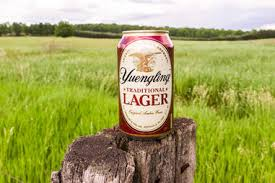can: (117, 31, 174, 140)
